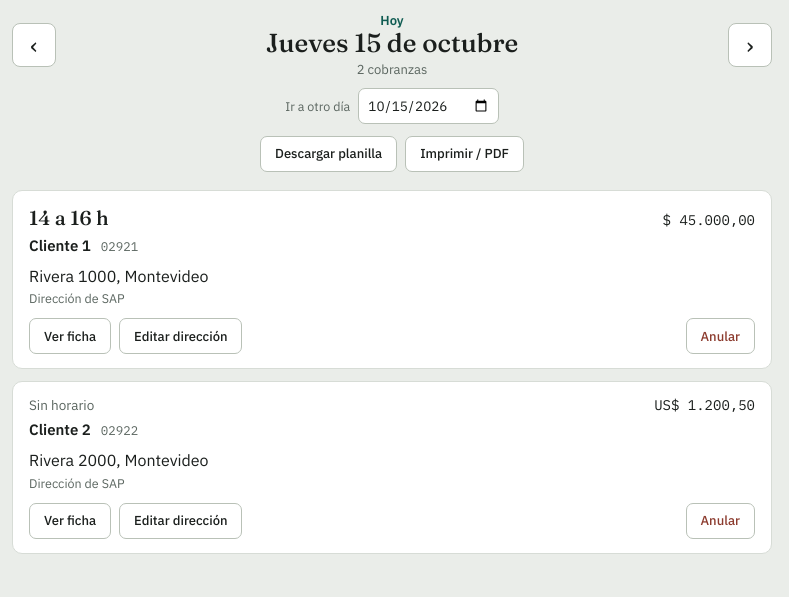
Test: Cobranza programada: exportar › con el flag › al cambiar de día se limpia el error
Expected: the element "Cliente 1" is shown, [12,190,772,369]
Click the button "Descargar planilla": (329, 154) [260,136,397,172]
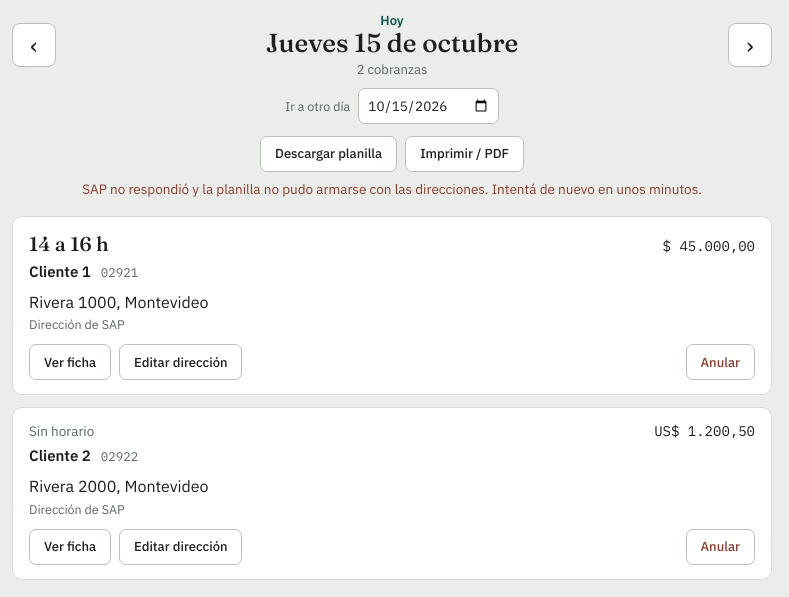
Expected: the message is shown, [82,180,702,198]
Click the button named "Día siguiente": (750, 45) [728,23,772,67]
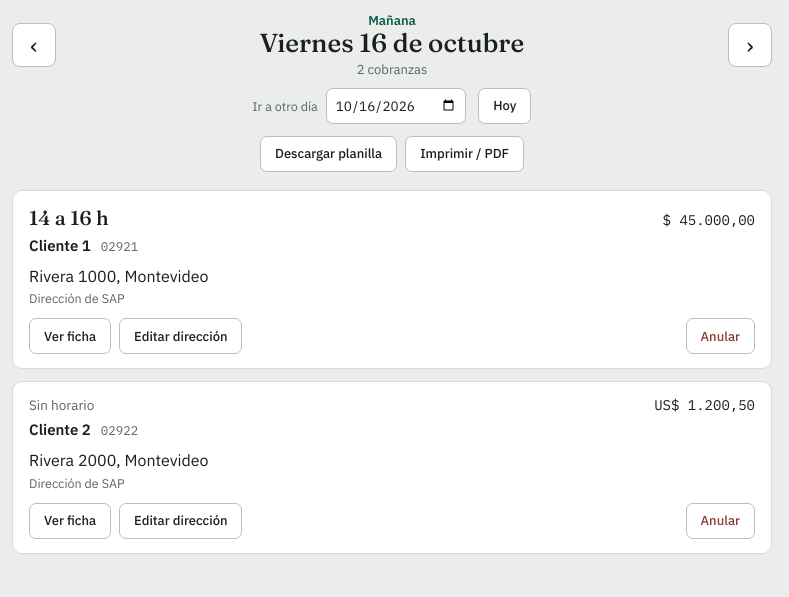
Expected: the text "SAP no respondió" is gone
